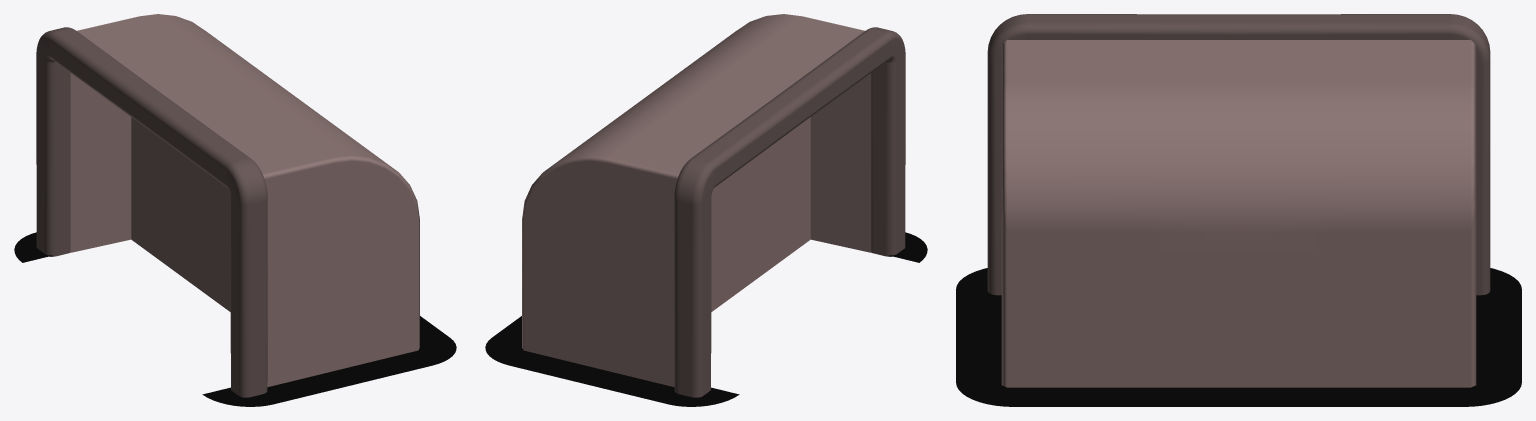
File: TravelDoor.fbx
3 renders of one model, left to right at view 1: azimuth 30°, elevation 25°; view 2: azimuth 150°, elevation 25°; view 3: azimuth 270°, elevation 25°, orthographic. The views are drawn at different scales.
Parts seen in each view (by area): view 1: Travel_door, Travel_door_shadow; view 2: Travel_door, Travel_door_shadow; view 3: Travel_door, Travel_door_shadow.
Boxes of the visible parts, <box> form: Travel_door: <box>36,14,419,397</box>; Travel_door_shadow: <box>14,232,456,406</box>; Travel_door: <box>522,14,905,397</box>; Travel_door_shadow: <box>485,232,927,406</box>; Travel_door: <box>987,14,1490,387</box>; Travel_door_shadow: <box>956,268,1521,406</box>.
Bounding box in the file's own units: 2.76 × 2.43 × 4.61.
